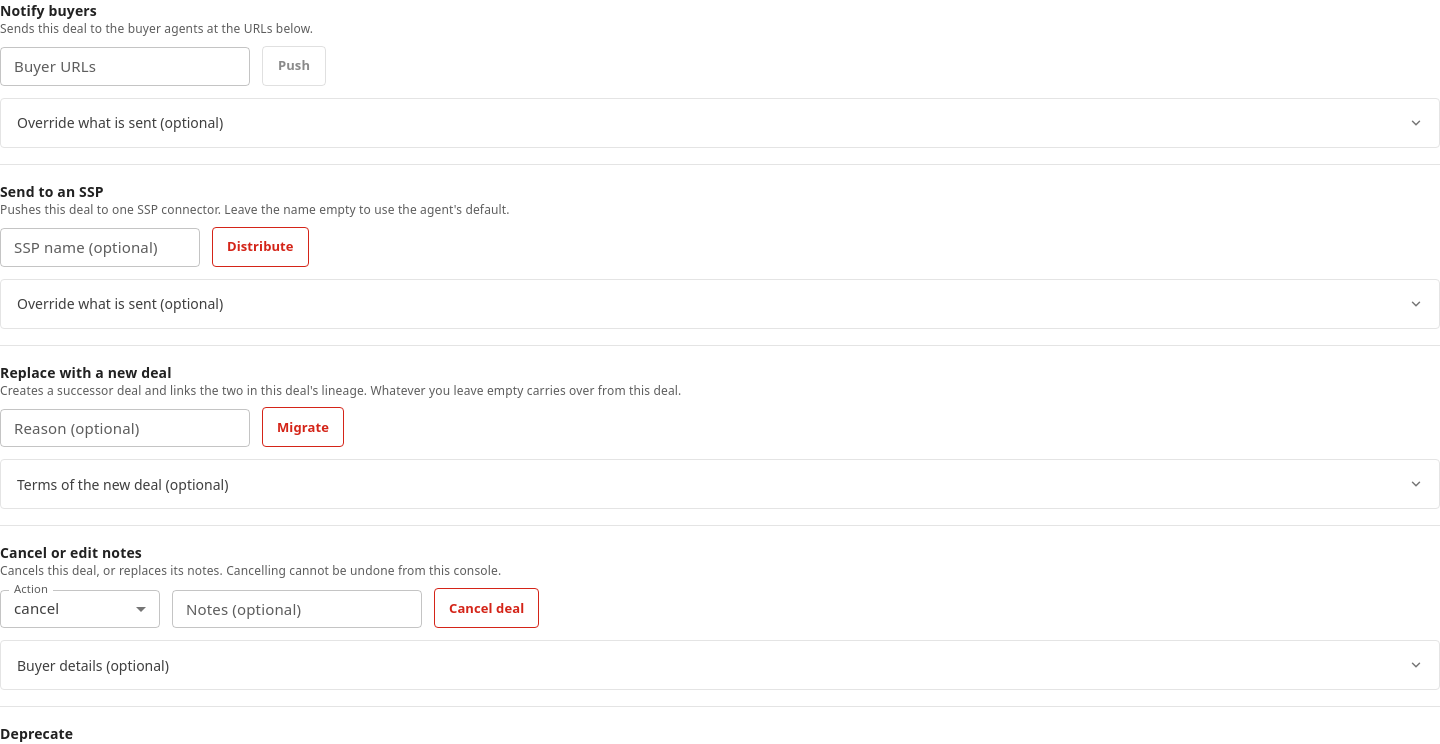
Test: forms that send an enum › runs a bulk action the agent knows, and reports a failed operation inside a 200
The width and height of the screenshot is (1440, 744).
Click the button "Cancel deal" at (487, 608), box [434,588,539,628]
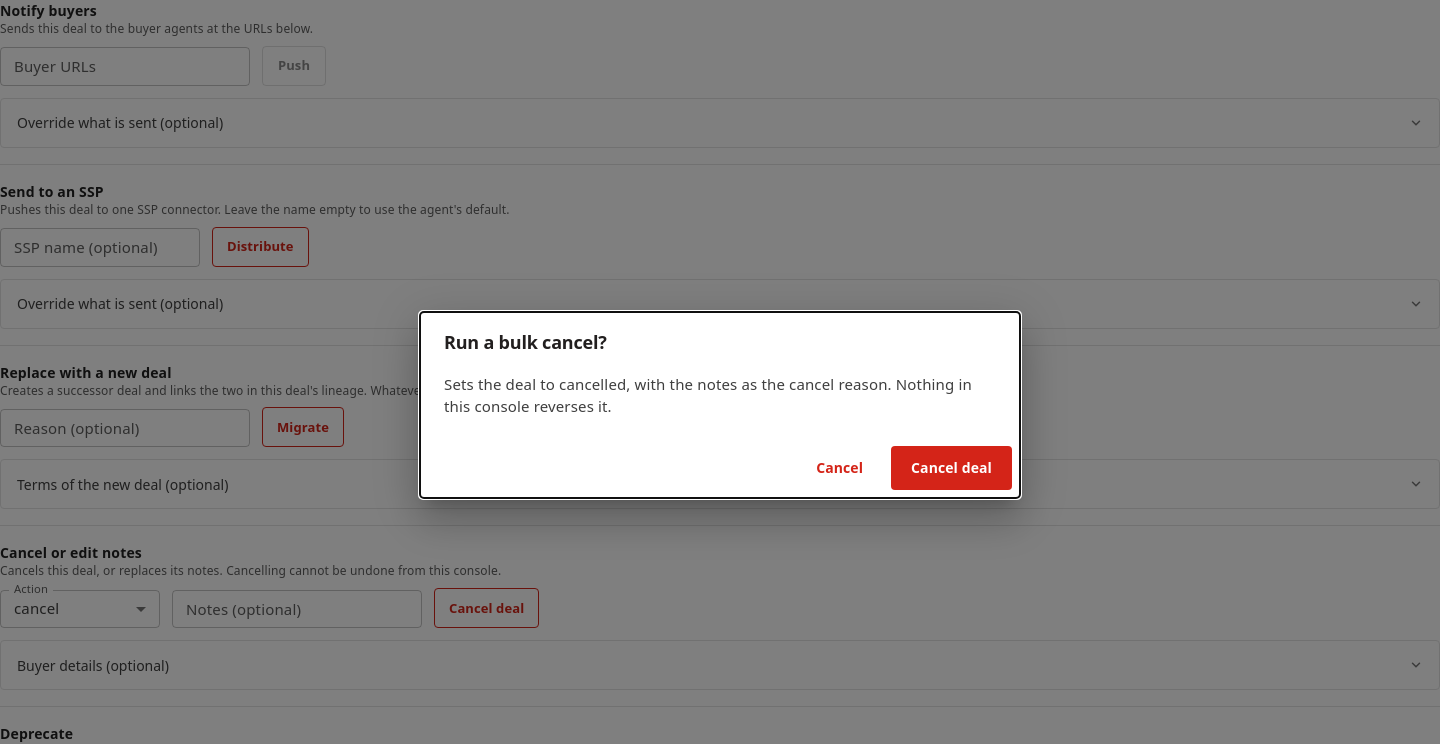
Click the button "Cancel deal" at (952, 468), box [891,446,1012,490]
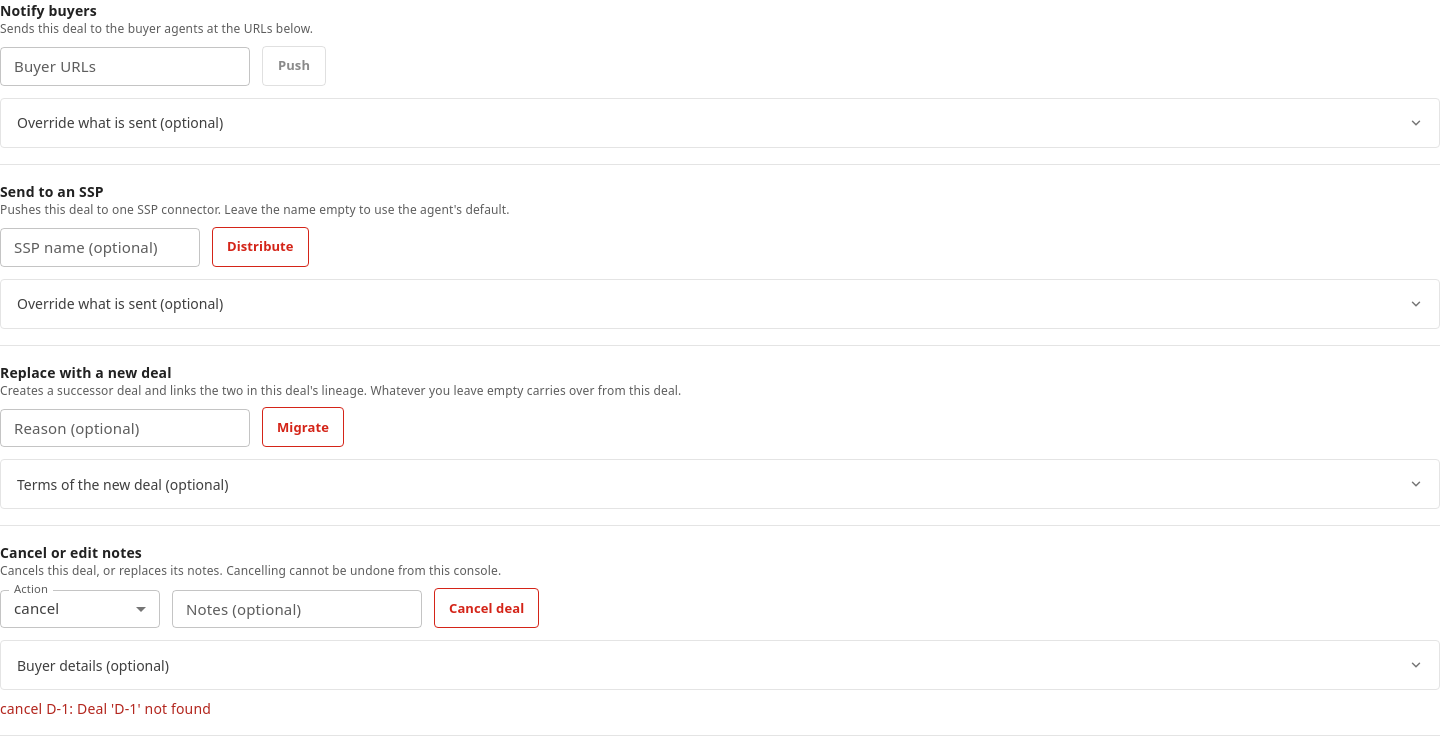
Check: the text "cancel D-1: Deal 'D-1' not found" is shown, box [0,699,211,718]
